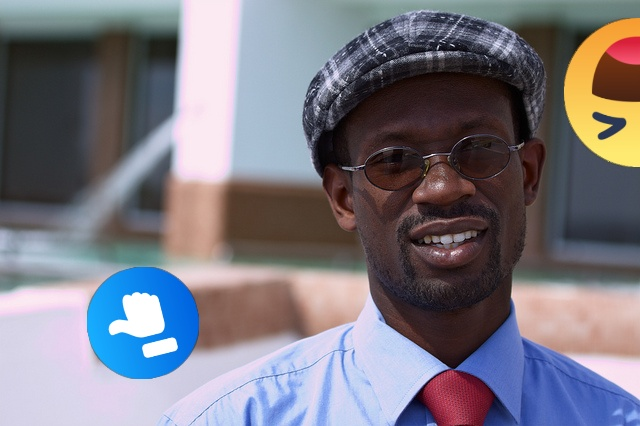haha: (564, 18, 640, 167)
like: (87, 267, 199, 379)
